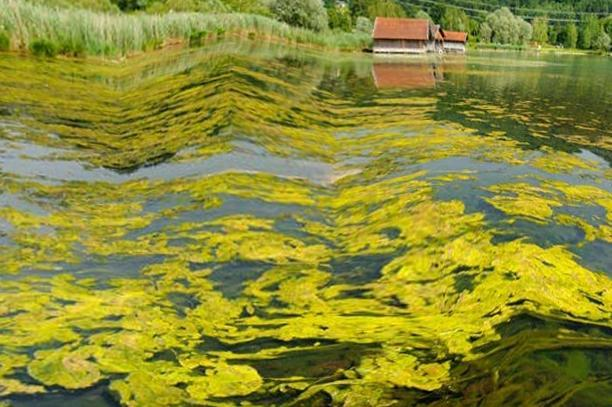Eutrophication Pollution: (21, 72, 612, 407)
